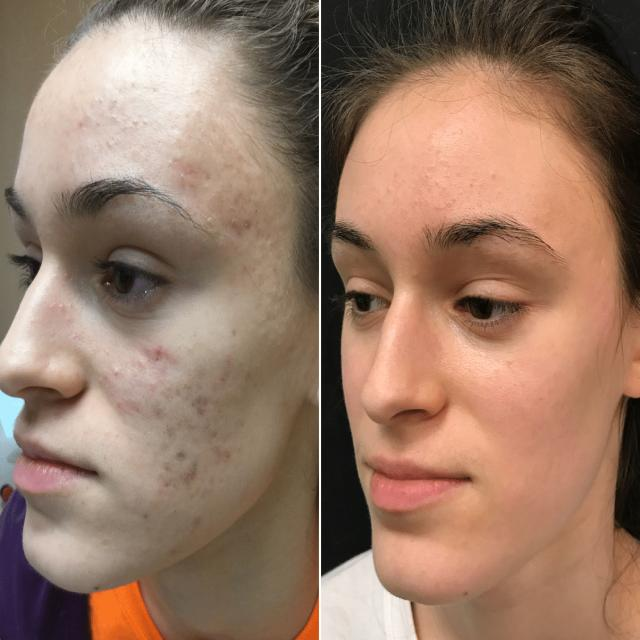Acne: (98, 86, 145, 130), (169, 439, 203, 491), (136, 337, 190, 367), (204, 208, 258, 236), (143, 380, 177, 420), (165, 156, 204, 188), (96, 137, 142, 163), (212, 433, 242, 470), (101, 363, 134, 396), (45, 294, 82, 323), (239, 257, 268, 288), (76, 104, 104, 135), (167, 118, 193, 148), (188, 394, 216, 418), (56, 261, 80, 288), (220, 363, 243, 390), (220, 157, 248, 178), (225, 322, 248, 342), (136, 507, 160, 525), (52, 163, 84, 175), (17, 182, 44, 196), (188, 90, 216, 101)
